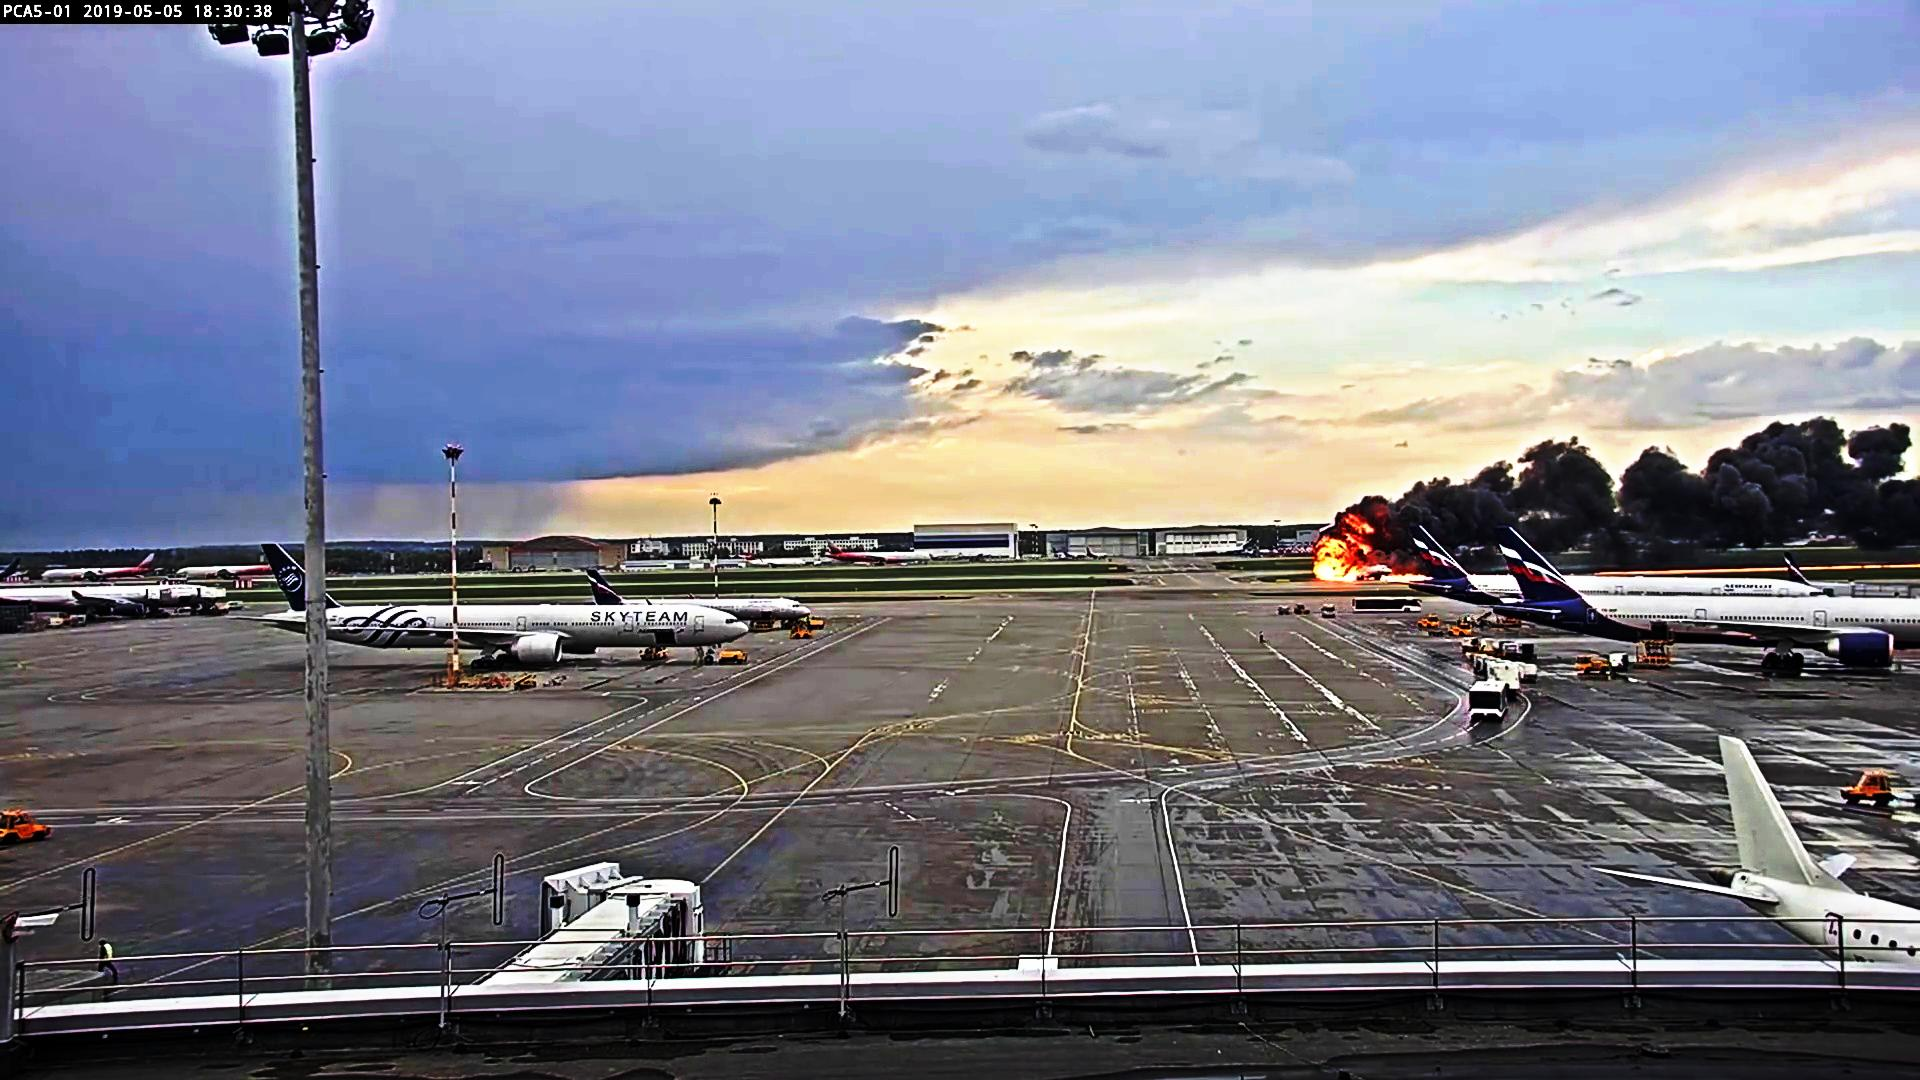fire: (1313, 513, 1367, 580)
smoke: (1724, 421, 1920, 533), (1610, 433, 1717, 537), (1400, 465, 1511, 556), (1515, 430, 1598, 533)
